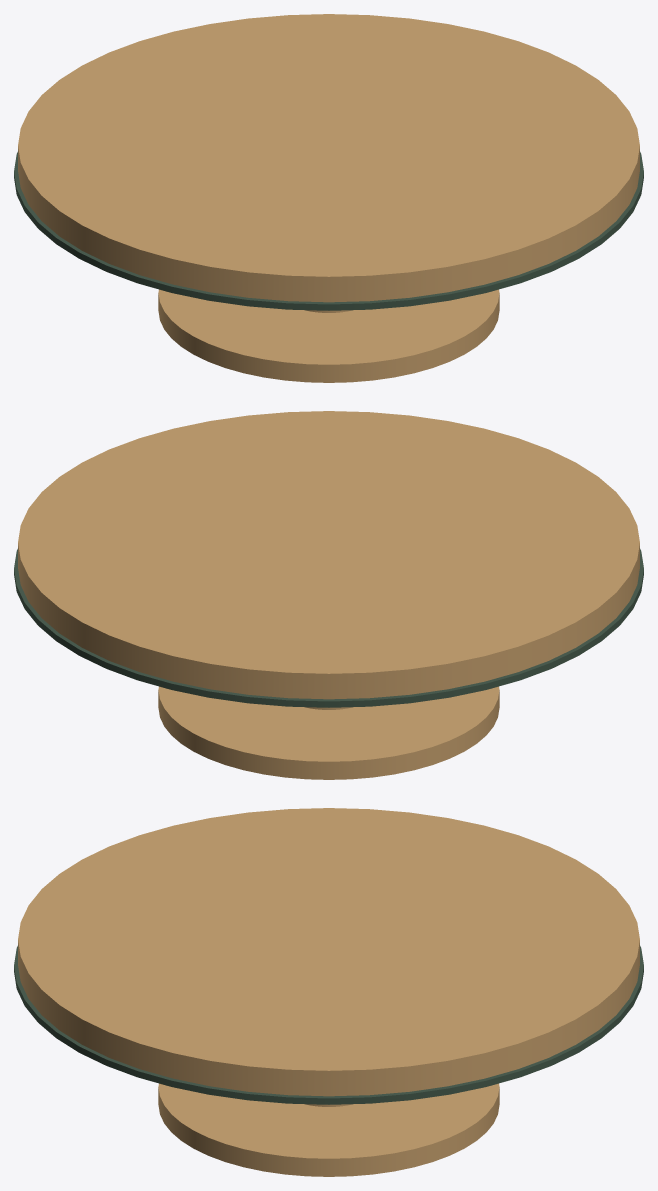
File: round-table.glb
3 renders of one model, top to bottom at view 1: azimuth 30°, elevation 25°; view 2: azimuth 150°, elevation 25°; view 3: azimuth 270°, elevation 25°, orthographic.
Bounding box in the file's own units: 3.14 × 0.91 × 3.14.
